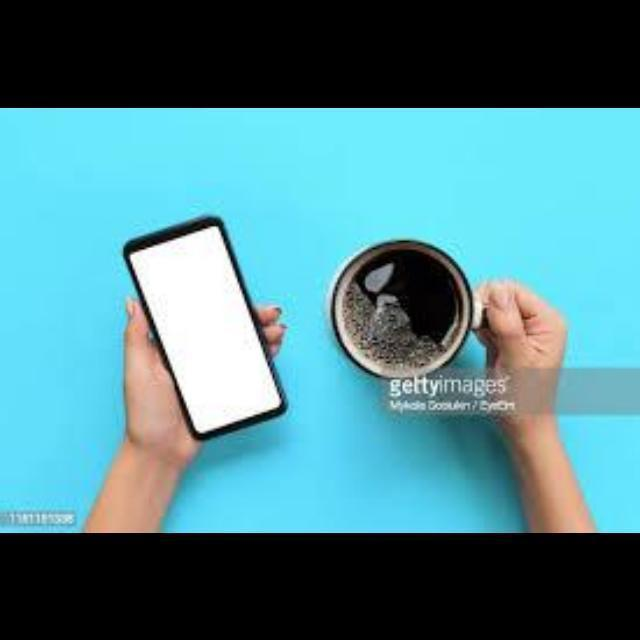phone: (118, 213, 286, 443)
